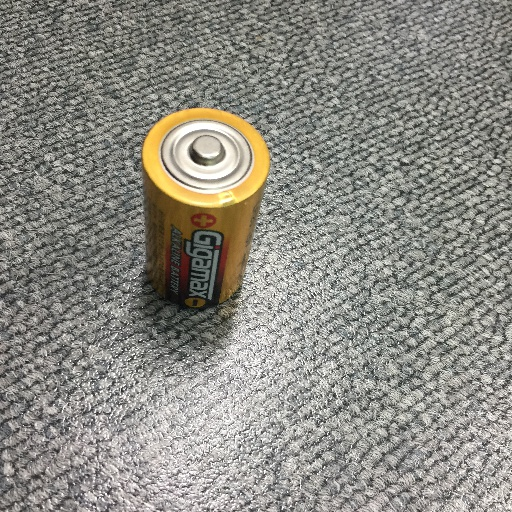Battery_0: (130, 91, 274, 328)
